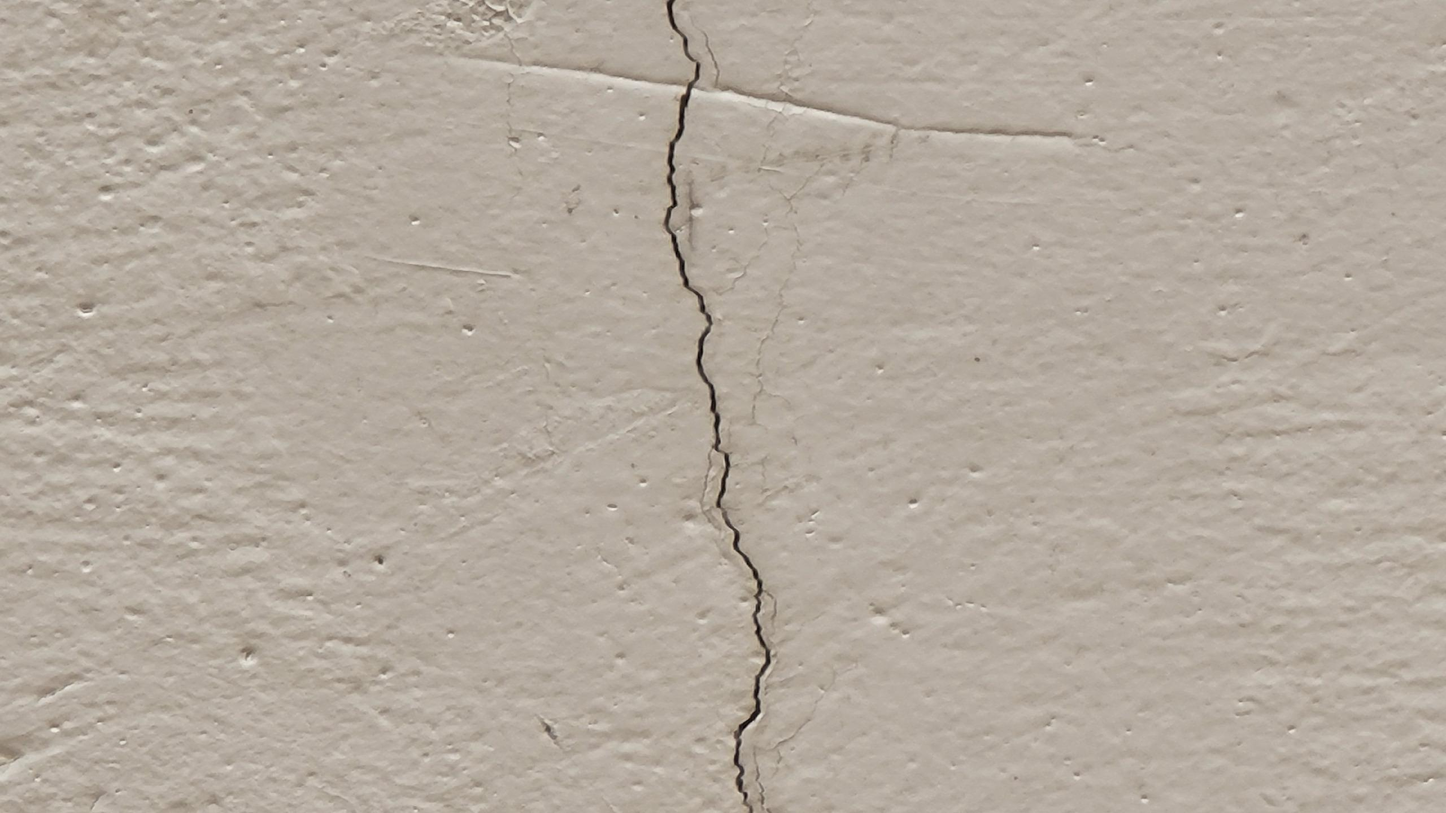crack: (647, 5, 776, 808)
